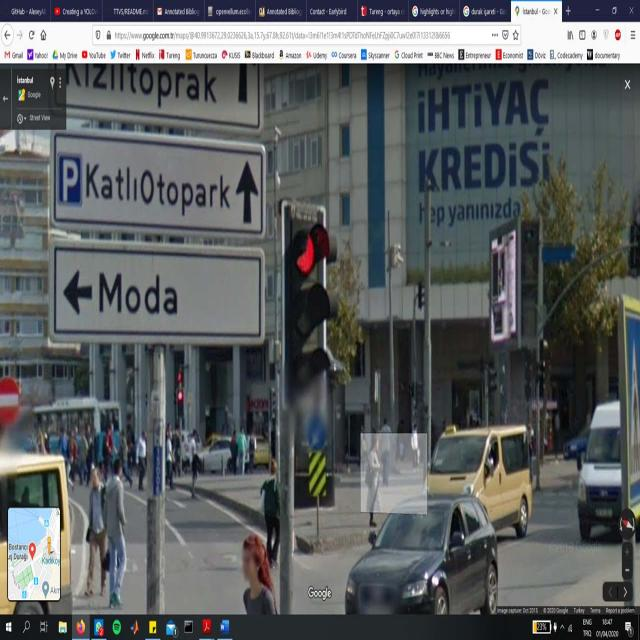girisyok: (1, 373, 21, 422)
kirmizi: (285, 203, 325, 405)
park: (54, 149, 82, 207)
